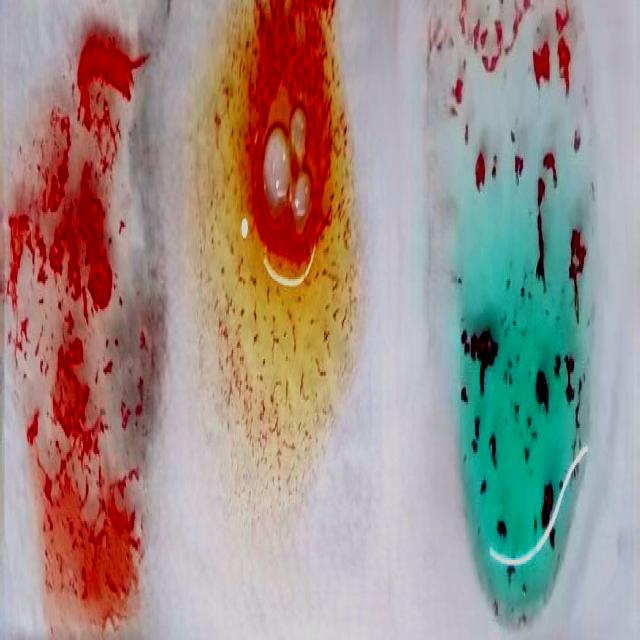A: (456, 2, 588, 612)
B: (198, 0, 364, 463)
D: (14, 17, 158, 619)
